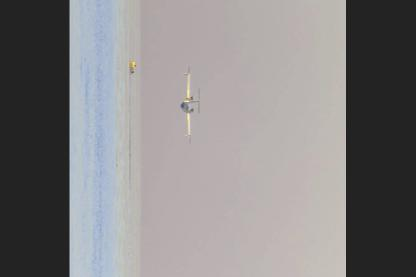B52: (181, 64, 202, 141)
